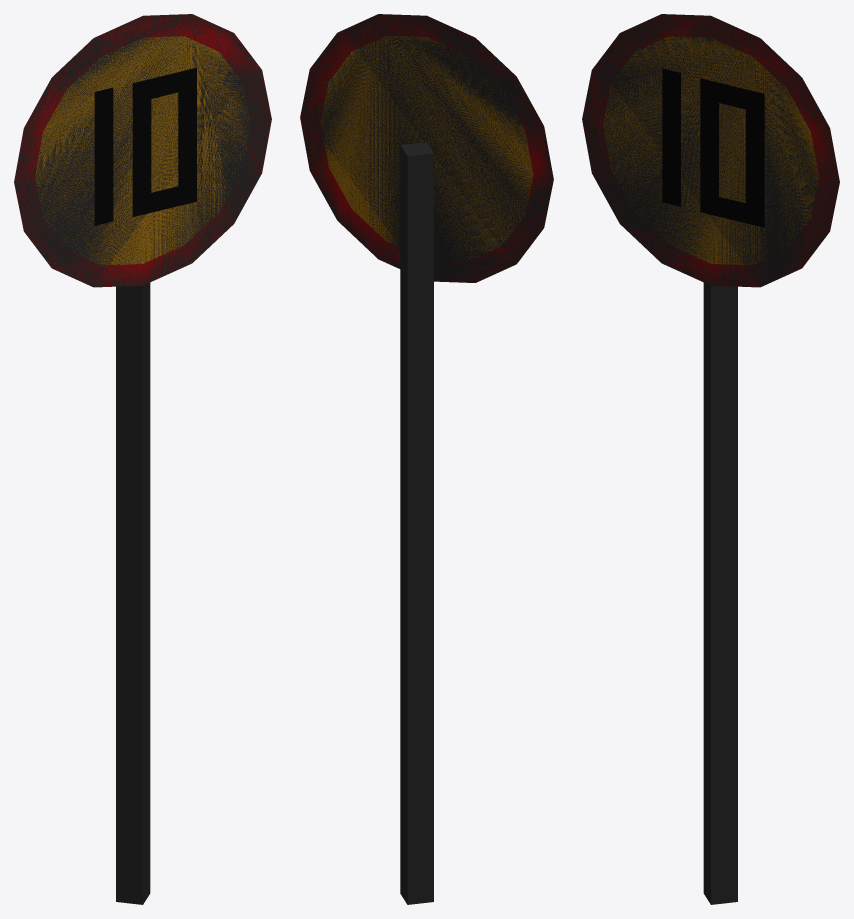
File: 10kmh.obj
3 renders of one model, left to right at view 1: azimuth 30°, elevation 25°; view 2: azimuth 150°, elevation 25°; view 3: azimuth 330°, elevation 25°, orthographic.
Parts seen in each view (by area): view 1: Cylinder.001; view 2: Cylinder.001; view 3: Cylinder.001.
Boxes of the visible parts, x1,y1,x2,y2 form: Cylinder.001: [14, 14, 271, 904]; Cylinder.001: [300, 14, 553, 904]; Cylinder.001: [582, 14, 839, 904].
Bounding box in the file's own units: 0.8957 × 2.95 × 0.1199.
